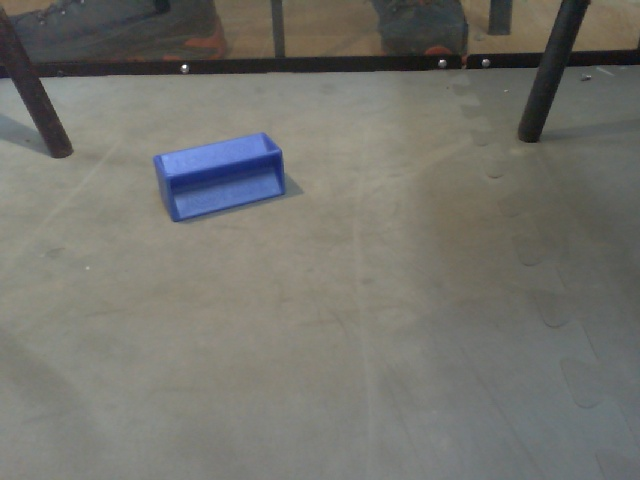BlueSample: (151, 125, 289, 226)
